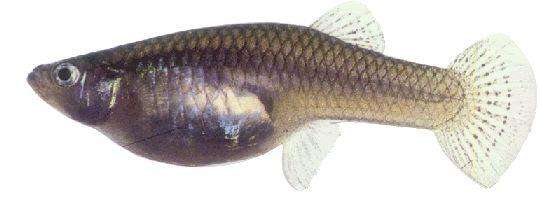Mosquito Fish: (27, 0, 535, 195)
